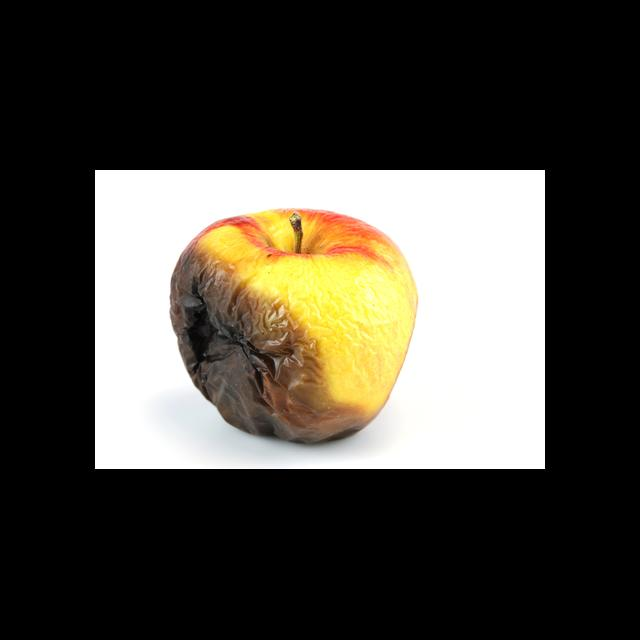food_waste: (162, 205, 422, 441)
